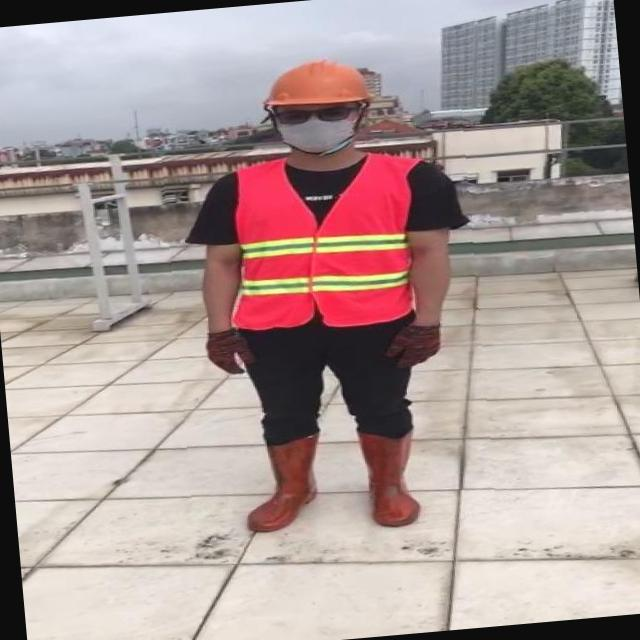boots: (240, 431, 326, 534), (356, 424, 429, 531)
helmet: (153, 41, 498, 556), (256, 56, 380, 112)
vest: (223, 152, 431, 333)
